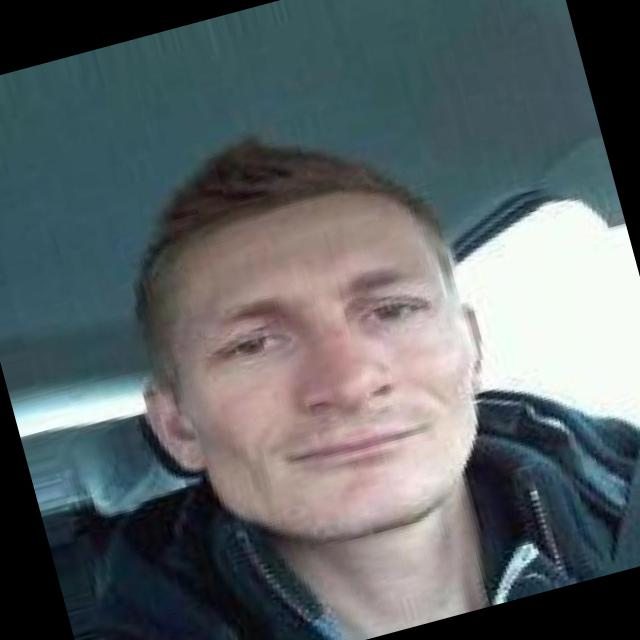bareface: (138, 152, 491, 568)
